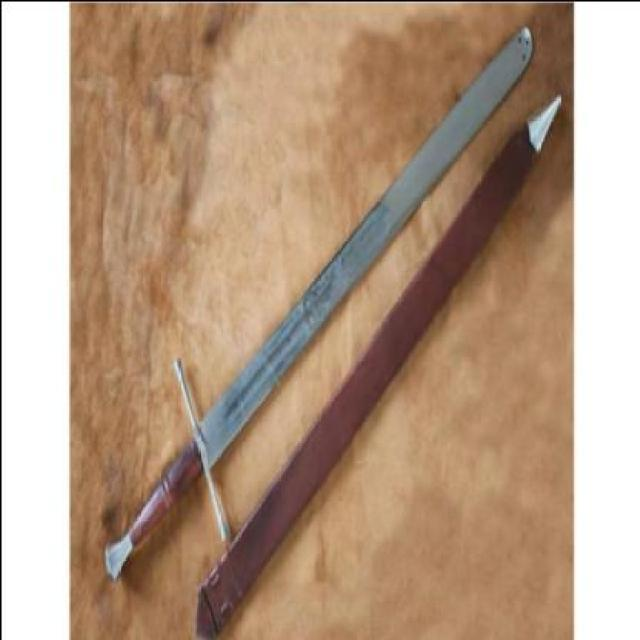weapon: (104, 19, 535, 578)
